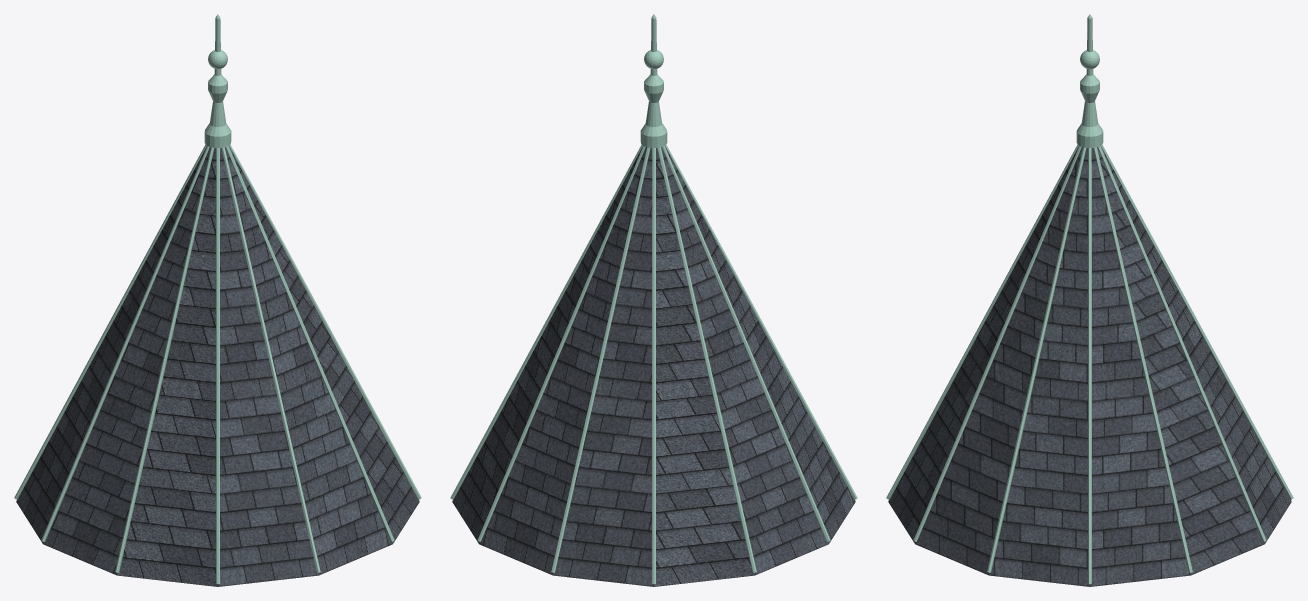
Rendered from turret_roof.glb.
3 renders of one model, left to right at view 1: azimuth 30°, elevation 25°; view 2: azimuth 150°, elevation 25°; view 3: azimuth 270°, elevation 25°, orthographic.
Parts seen in each view (by area): view 1: turret_roof_shingles, turret_roof_copper; view 2: turret_roof_shingles, turret_roof_copper; view 3: turret_roof_shingles, turret_roof_copper.
Boxes of the visible parts, box(x1,y1,x2,y2) form: turret_roof_shingles: box(16, 146, 419, 586); turret_roof_copper: box(14, 14, 421, 583); turret_roof_shingles: box(452, 146, 855, 586); turret_roof_copper: box(450, 14, 857, 583); turret_roof_shingles: box(888, 146, 1291, 586); turret_roof_copper: box(886, 14, 1293, 583).
Size of the model in its own units: 4.88 by 6.45 by 4.88.
Materials: 2 (1 with a texture image).
